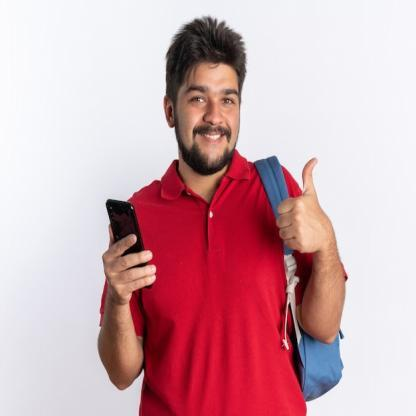thumb_up: (275, 154, 329, 254)
